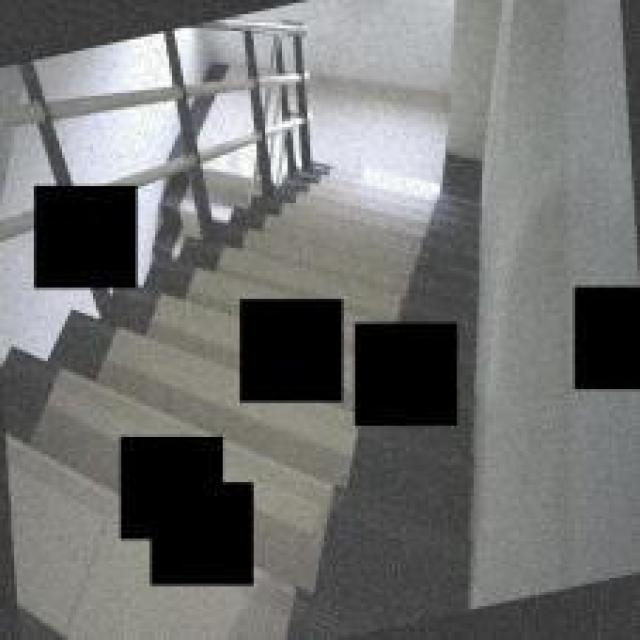downstair: (294, 153, 483, 300)
